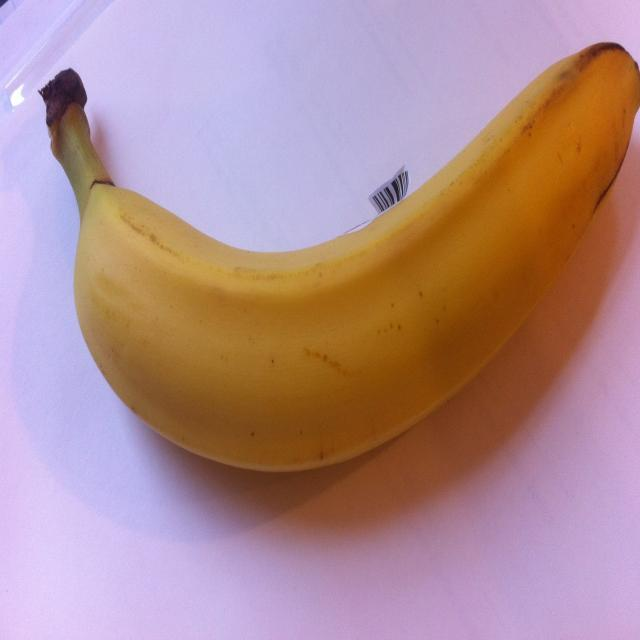Banana: (30, 39, 640, 480)
